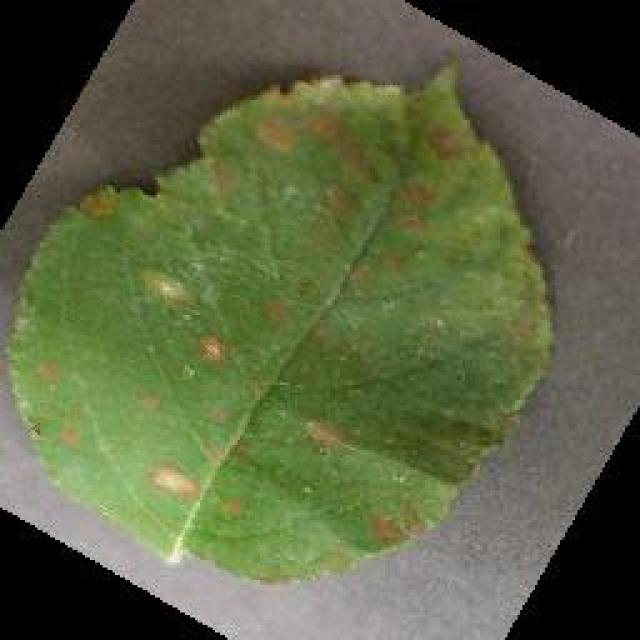apple cedar apple rust: (0, 55, 558, 585)
